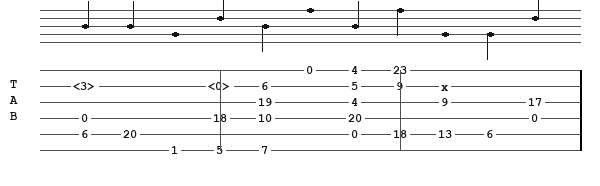0: (81, 112, 92, 124), (306, 64, 317, 76), (351, 128, 362, 140), (531, 112, 542, 124)
1: (171, 144, 182, 156)
10: (258, 112, 276, 124)
13: (438, 128, 456, 140)
17: (528, 96, 546, 108)
18: (213, 112, 231, 124), (393, 128, 411, 140)
19: (258, 96, 276, 108)
20: (123, 128, 141, 140), (348, 112, 366, 124)
23: (393, 64, 411, 76)
4: (351, 64, 362, 76), (351, 96, 362, 108)
5: (216, 144, 227, 156), (351, 80, 362, 92)
6: (81, 128, 92, 140), (261, 80, 272, 92), (486, 128, 497, 140)
7: (261, 144, 272, 156)
9: (396, 80, 407, 92), (441, 96, 452, 108)
harmonic: (73, 80, 100, 92), (208, 80, 235, 92)
x: (441, 81, 452, 91)
